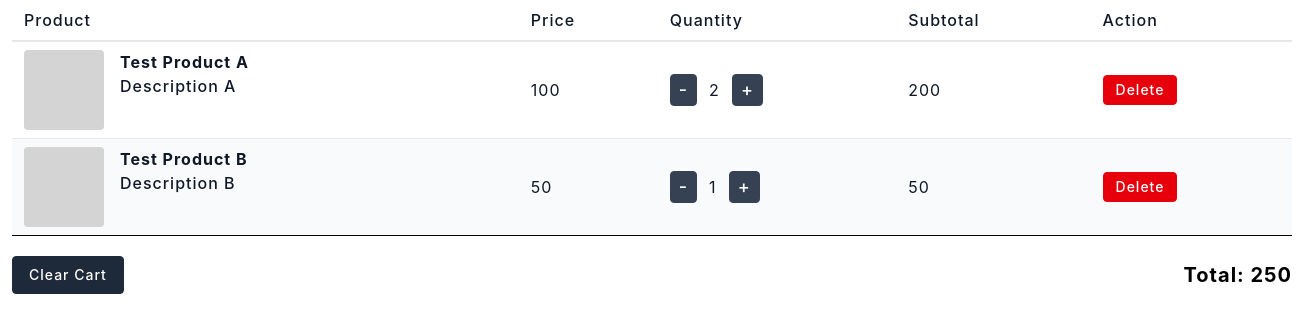
<Cart /> › increases quantity with the + button
The width and height of the screenshot is (1304, 311).
Click the button "+" in the row of "Description A" at (747, 90), box [732,74,763,106]
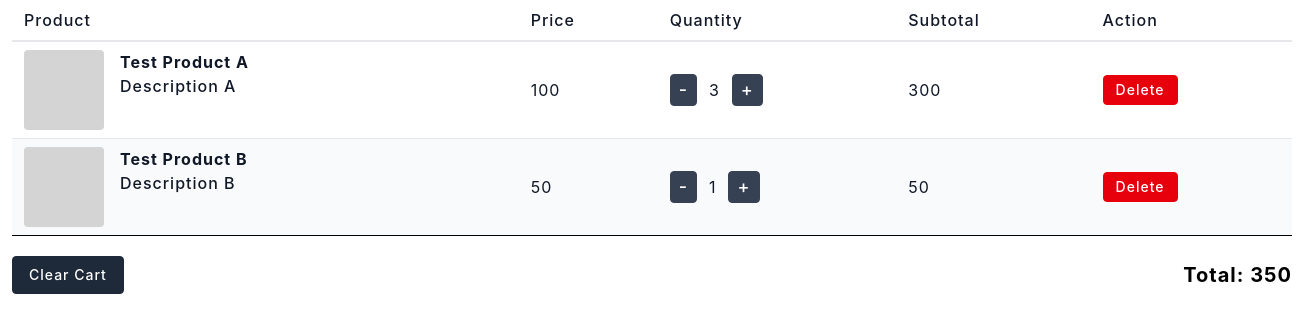
Result: the heading "Total: 350" is shown at [1183,261,1292,289]
